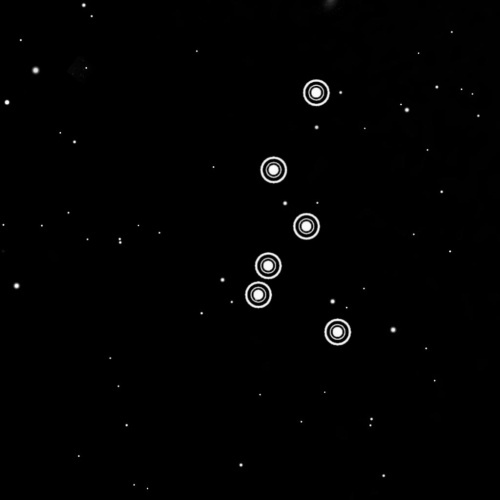cassiopeia: (238, 72, 356, 352)
